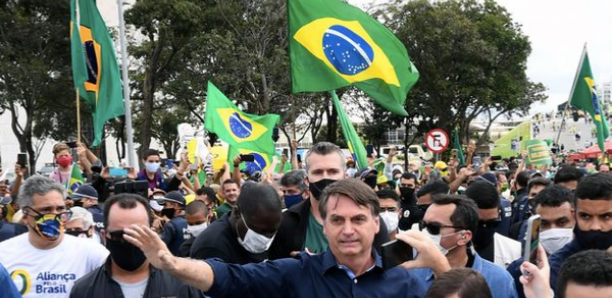with_incorrect_mask: (575, 194, 612, 252)
with_mask: (110, 223, 149, 276), (534, 203, 573, 255), (238, 209, 282, 253), (27, 197, 70, 241), (309, 163, 342, 200), (380, 202, 399, 233), (185, 212, 208, 236), (54, 149, 73, 168), (399, 178, 416, 199), (144, 154, 162, 173)
without_mask: (326, 207, 369, 254)
